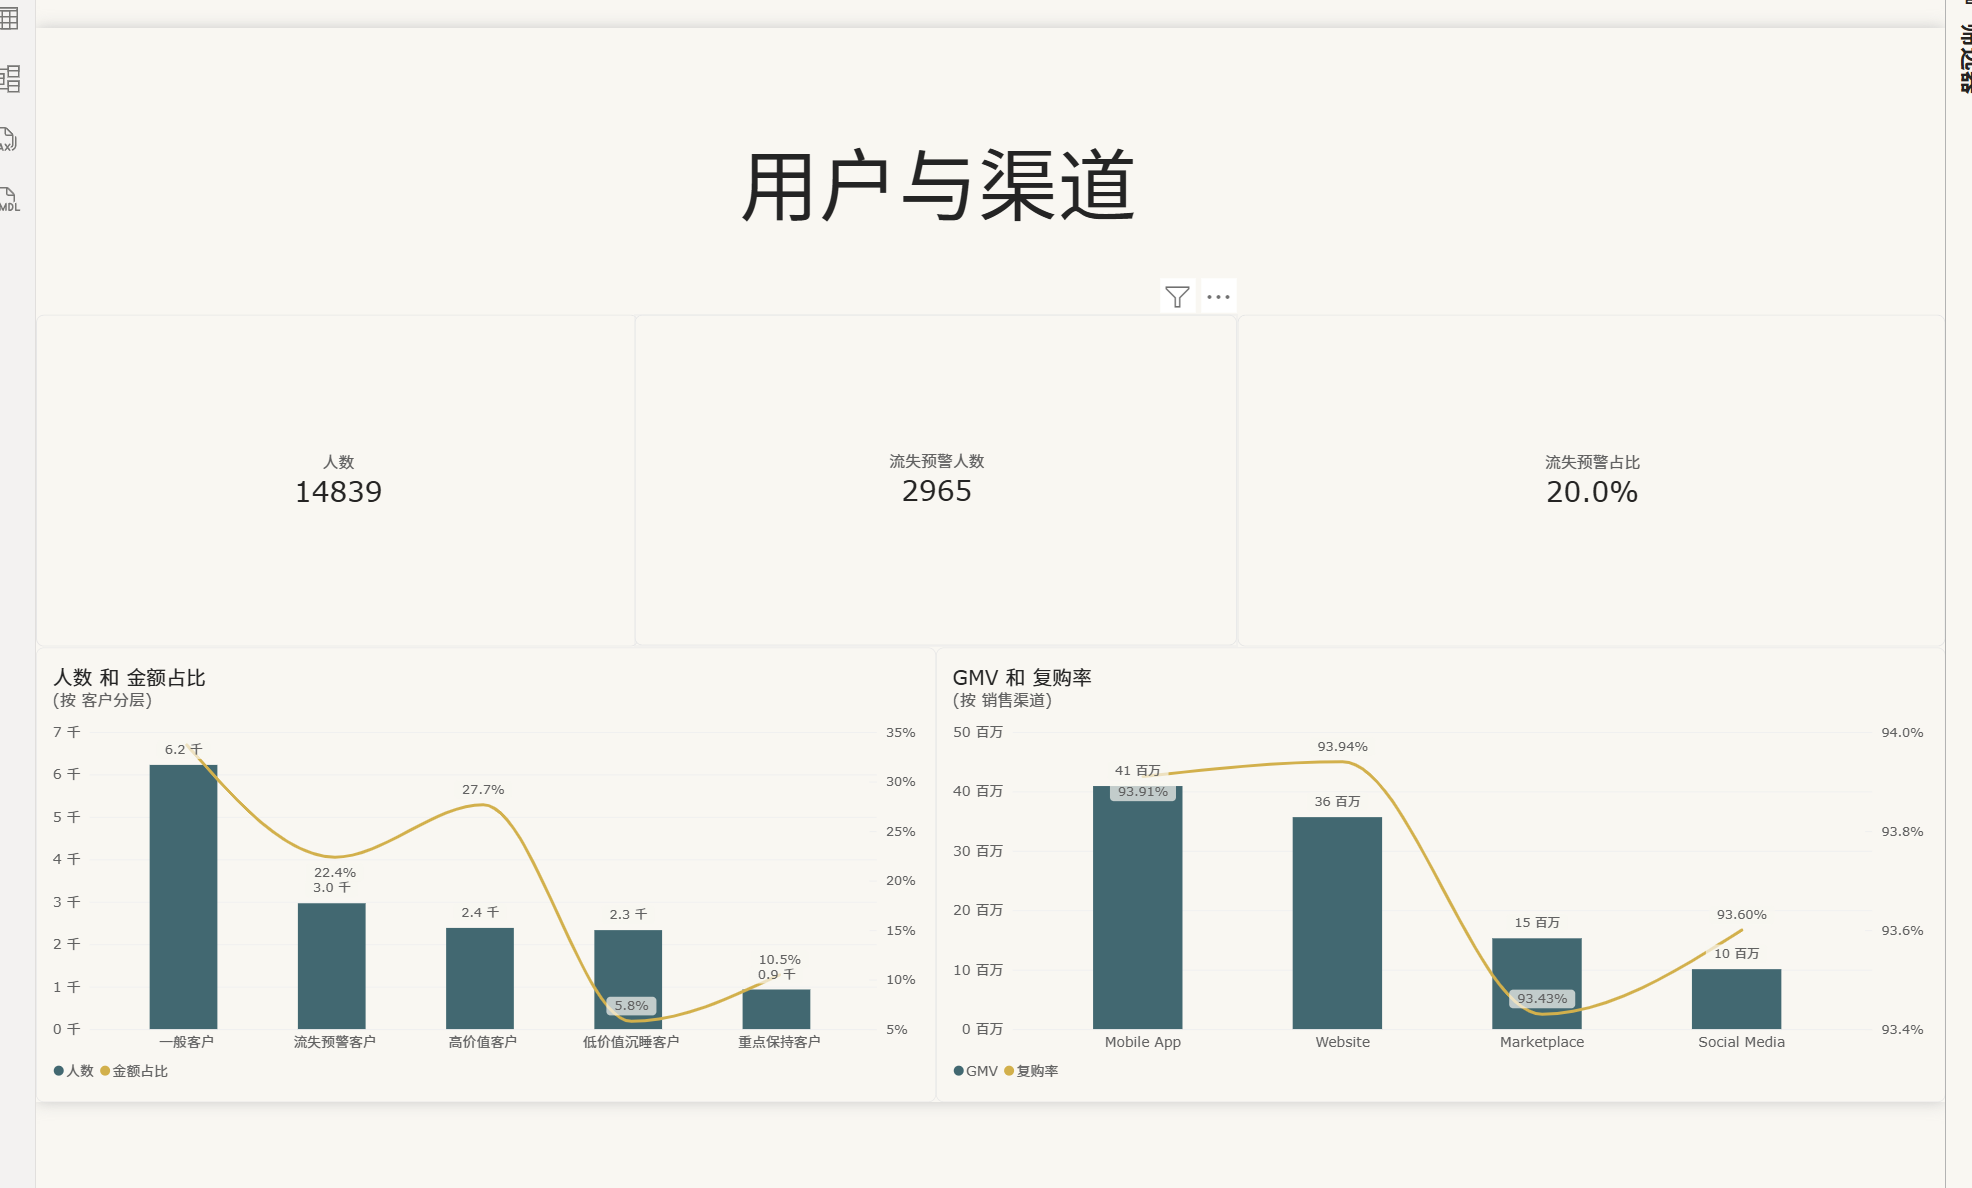

What the dashboard file says about the page in this screenshot:
{"tool":"powerbi","page":{"name":"用户与渠道","canvas":[1920,1080],"ordinal":2},"visuals":[{"type":"cardVisual","fields":{"Data":["Sum(4.人数)"]},"box":[0,288.2,606.5,334.9],"z":0},{"type":"cardVisual","fields":{"Data":["4.流失预警人数"]},"box":[602,288.2,606.5,333.4],"z":1000},{"type":"lineClusteredColumnComboChart","fields":{"Category":["4.客户分层"],"Y":["Sum(4.人数)"],"Y2":["4.金额占比"]},"box":[0,623.1,905.2,457.1],"z":2000},{"type":"lineClusteredColumnComboChart","fields":{"Category":["31.销售渠道"],"Y":["Sum(31.GMV)"],"Y2":["Sum(31.复购率)"]},"box":[905.2,623.1,1015.3,457.1],"z":3000},{"type":"cardVisual","fields":{"Data":["4.流失预警占比"]},"box":[1208.4,288.2,712.1,334.9],"z":4000},{"type":"textbox","box":[0,95,1814.9,239.9],"z":5000}]}

Visuals, with their boxes on the page's 1920x1080 design canvas (x1, y1, x2, y2). These are canvas units, not pixel positions in the 1972x1188 screenshot, which may show the page scaled, cropped or inside an application window:
cardVisual - Sum(4.人数): box(0, 288, 606, 623)
cardVisual - 4.流失预警人数: box(602, 288, 1208, 622)
lineClusteredColumnComboChart - 4.客户分层 x Sum(4.人数): box(0, 623, 905, 1080)
lineClusteredColumnComboChart - 31.销售渠道 x Sum(31.GMV): box(905, 623, 1920, 1080)
cardVisual - 4.流失预警占比: box(1208, 288, 1920, 623)
textbox: box(0, 95, 1815, 335)
